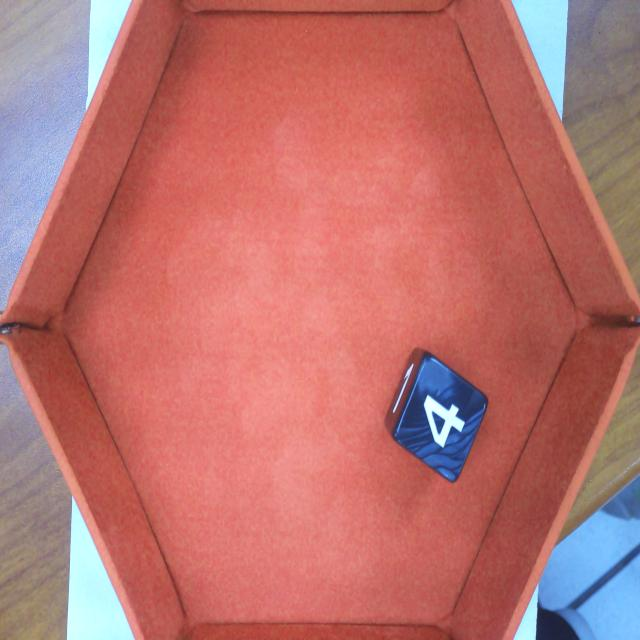dice: (398, 351, 486, 486)
